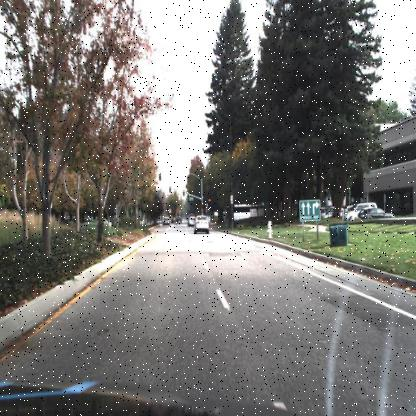car: (343, 199, 378, 220), (367, 193, 392, 216), (194, 214, 211, 235)
